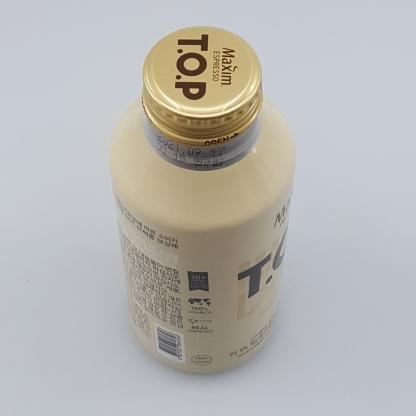-------TOP-----: (109, 26, 296, 373)
